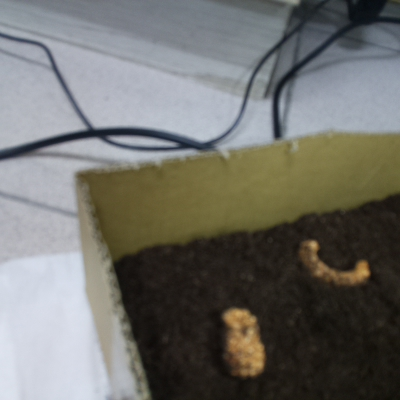eggs: (290, 232, 376, 295), (211, 297, 273, 383)
